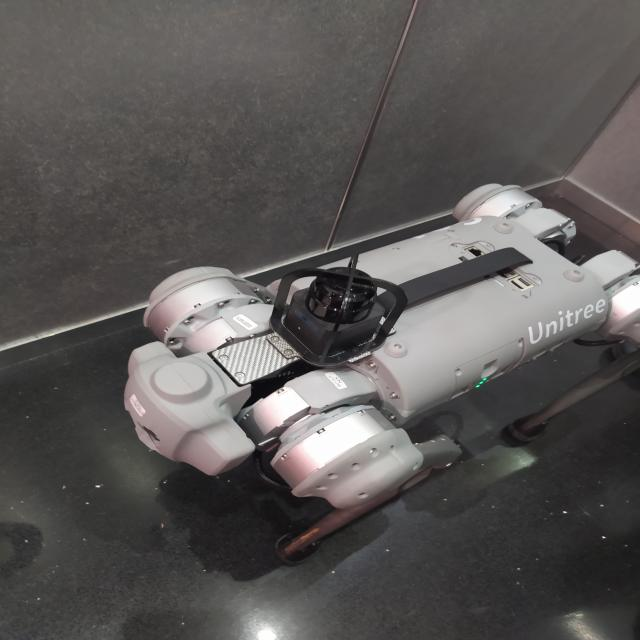unitree-go1-robot: (114, 174, 640, 567)
